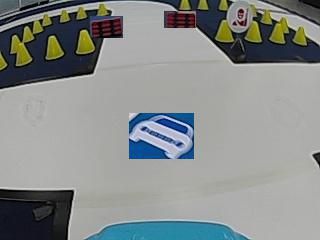evil: (226, 2, 252, 32)
